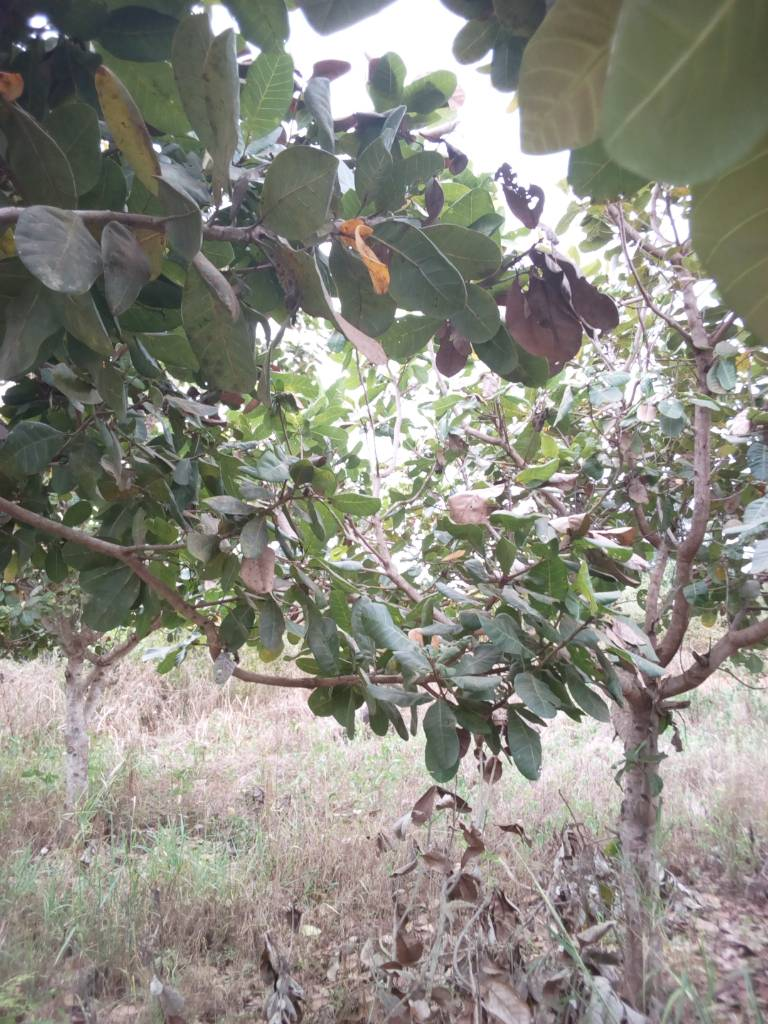Dessèchement des bourgeons: (498, 245, 612, 345)
